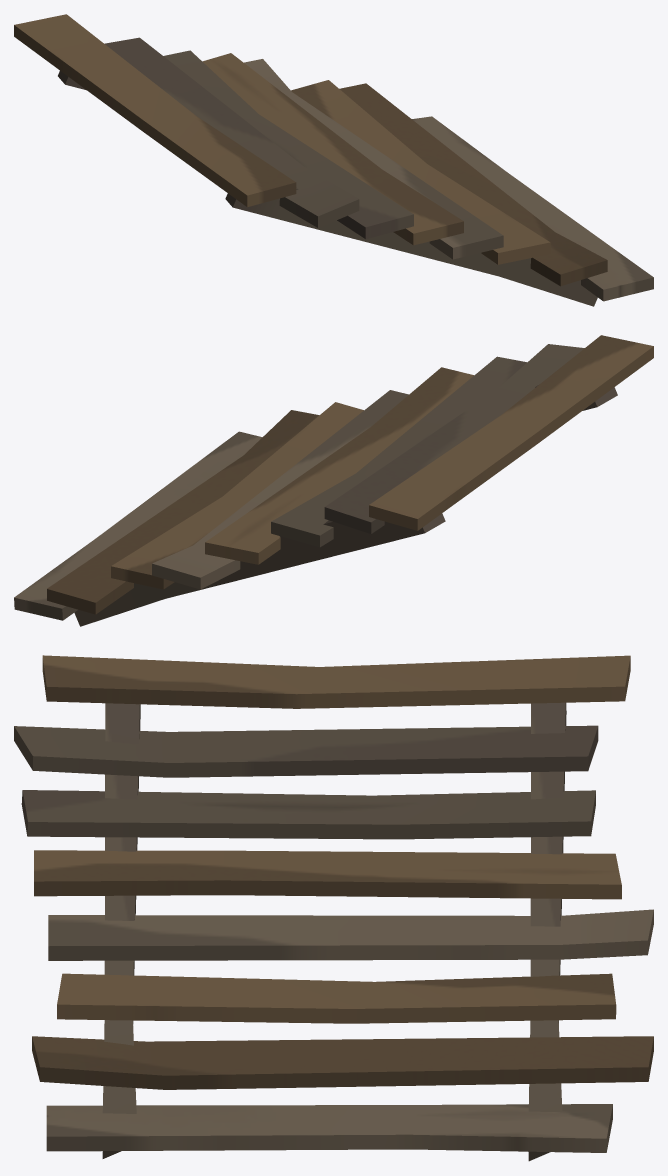
Rendered from SM_Bld_Dock_Stairs_01.fbx.
3 views of the same model, one above another, from view 1: azimuth 30°, elevation 25°; view 2: azimuth 150°, elevation 25°; view 3: azimuth 270°, elevation 25° (orthographic). The views are drawn at different scales.
Visible parts, largest first — view 1: SM_Bld_Dock_Stairs_01; view 2: SM_Bld_Dock_Stairs_01; view 3: SM_Bld_Dock_Stairs_01.
Part boxes in pixels (<box>): SM_Bld_Dock_Stairs_01: <box>14,14,653,306</box>; SM_Bld_Dock_Stairs_01: <box>14,335,653,626</box>; SM_Bld_Dock_Stairs_01: <box>14,655,653,1161</box>.
Bounding box in the file's own units: 261 × 134 × 281.
